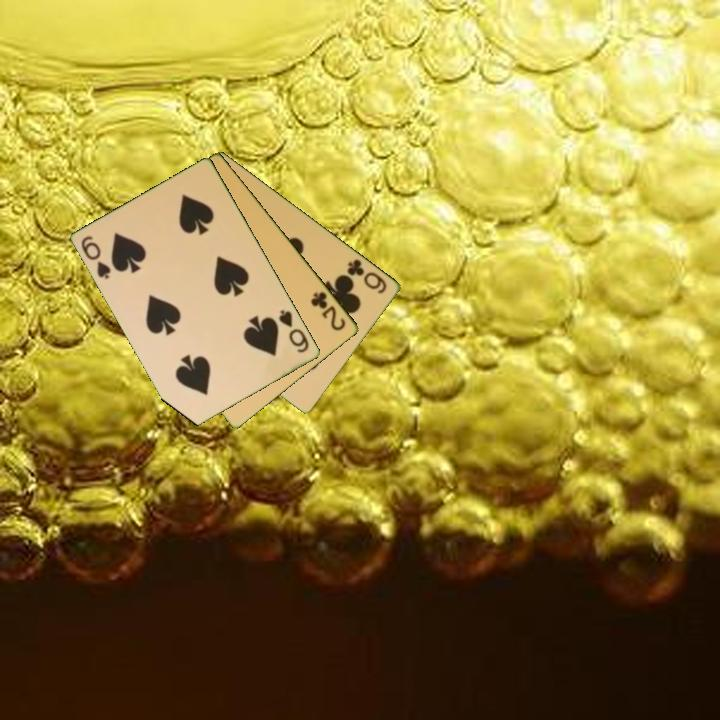2c: (307, 288, 349, 334)
6c: (344, 255, 390, 297)
6s: (78, 232, 114, 283), (276, 306, 312, 356)
